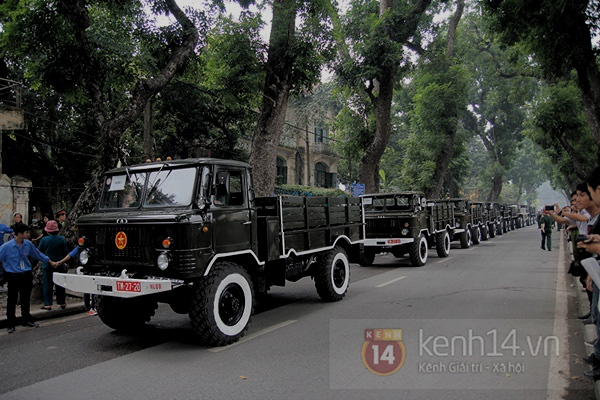plate: (113, 278, 144, 294)
